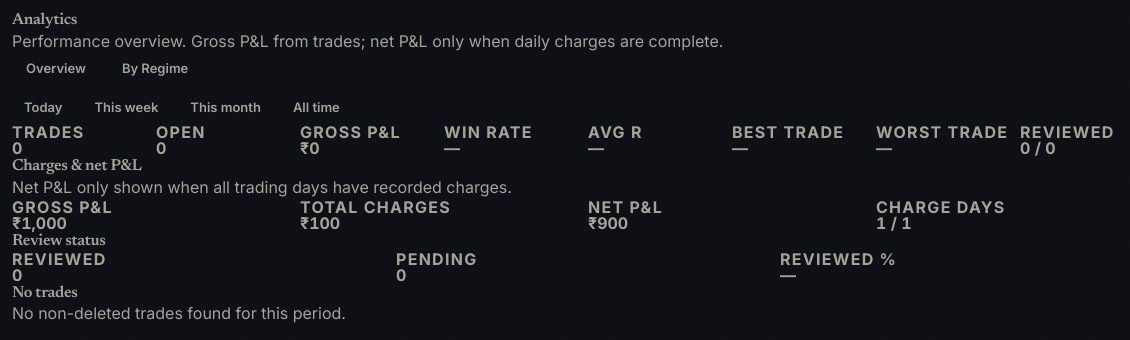
Test: AnalyticsV3Page › labels all-time charges as latest 90 days only
Click the button "All time".
click(316, 108)  # box top-left (281, 92), bottom-right (352, 124)
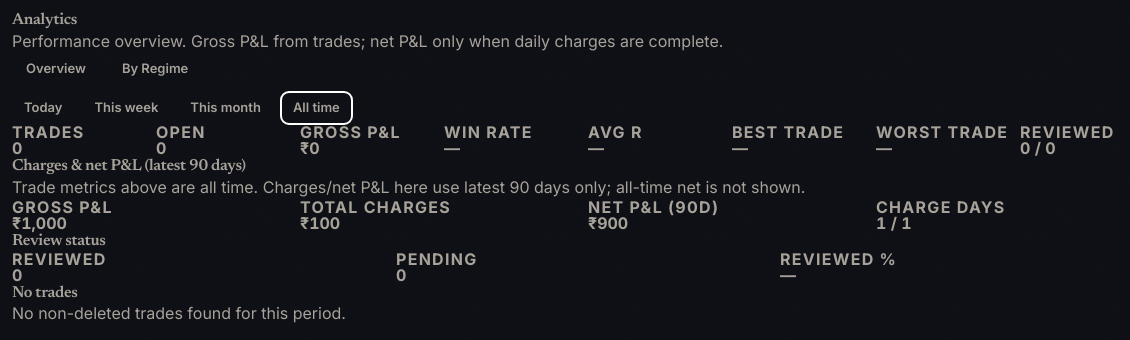
Expected: the heading "Charges & net P&L (latest 90 days)" is shown, top-left (12, 158), bottom-right (246, 174)
Expected: the text "all time. Charges/net P&L here use latest 90 days only" is shown, top-left (12, 177), bottom-right (805, 197)
Expected: the text "Net P&L (90d)" is shown, top-left (588, 199), bottom-right (719, 215)
